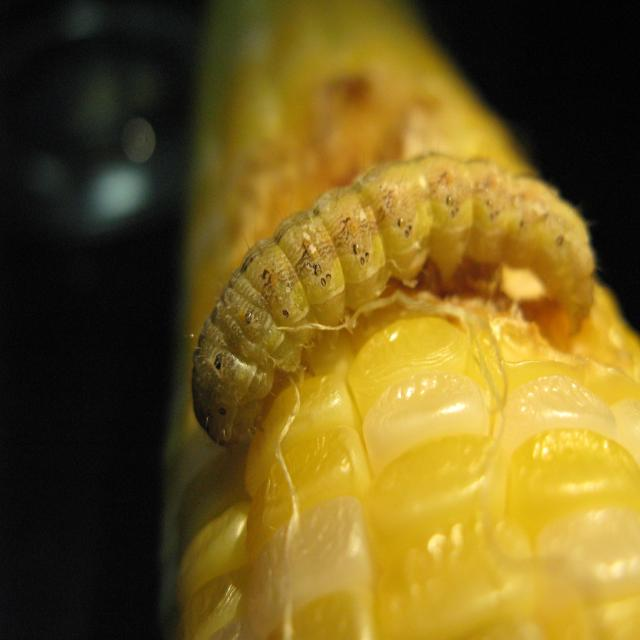Corn-earworm: (184, 136, 596, 453)
